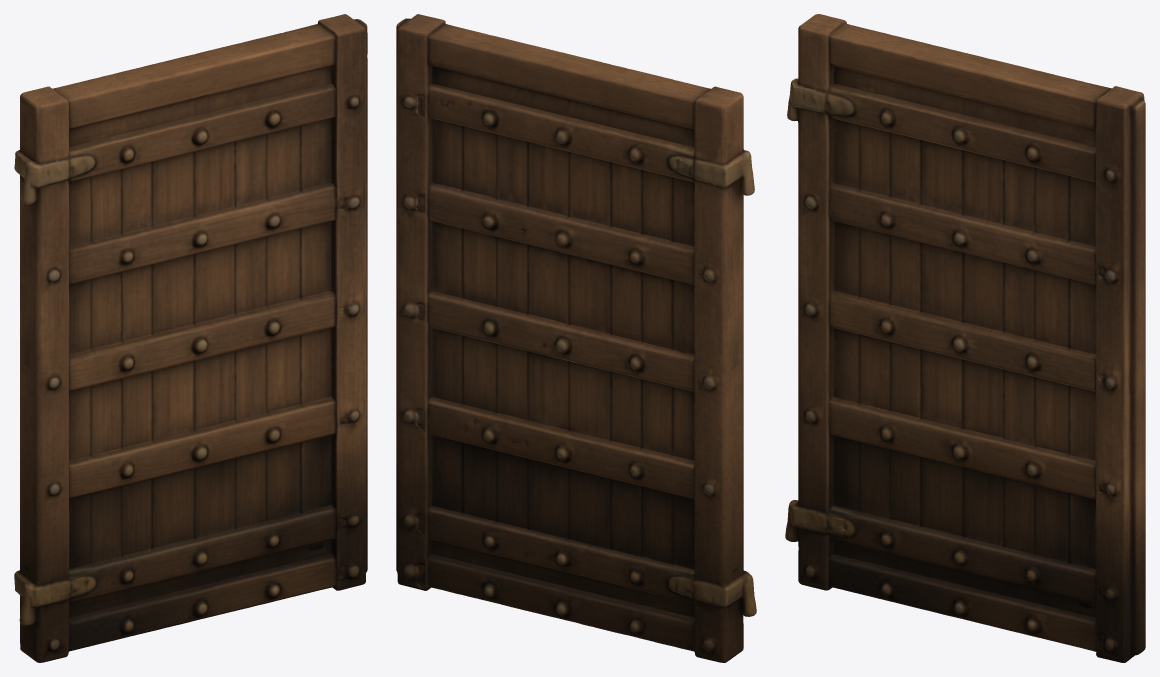
The model's file is ARCH-013.glb.
3 views of the same model, side by side, from view 1: azimuth 30°, elevation 25°; view 2: azimuth 150°, elevation 25°; view 3: azimuth 330°, elevation 25° (orthographic).
Parts seen in each view (by area): view 1: world; view 2: world; view 3: world.
Part boxes in pixels (left/top/right/bottom): world: left=14, top=14, right=367, bottom=662; world: left=396, top=14, right=756, bottom=662; world: left=785, top=14, right=1145, bottom=662.
Size of the model in its own units: 2 by 3.05 by 0.2431.
1 material, 1 textured.
